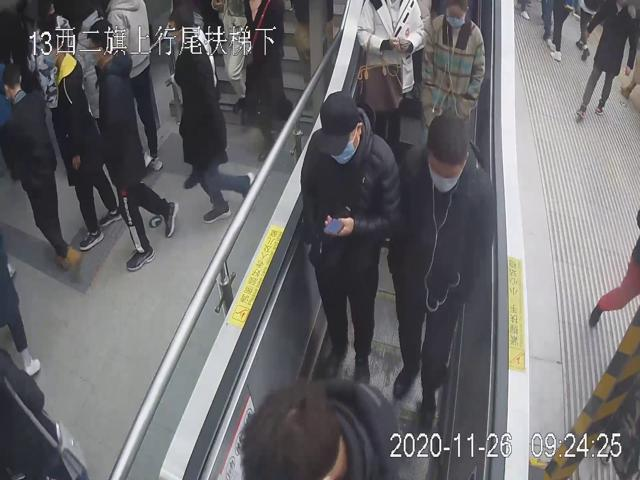person: (388, 112, 495, 432), (299, 91, 401, 387), (87, 17, 179, 271), (419, 0, 487, 125)
